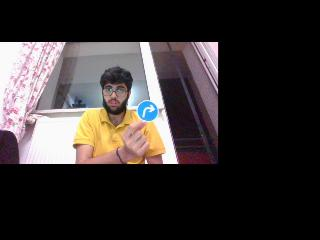right: (136, 100, 158, 122)
